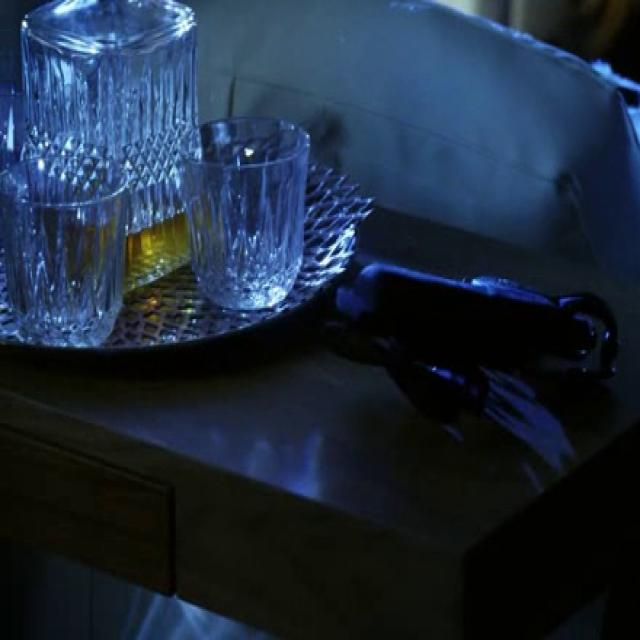Bottle: (29, 0, 204, 292)
Cup: (0, 133, 122, 361), (178, 116, 308, 310)
Table: (0, 227, 640, 640)
